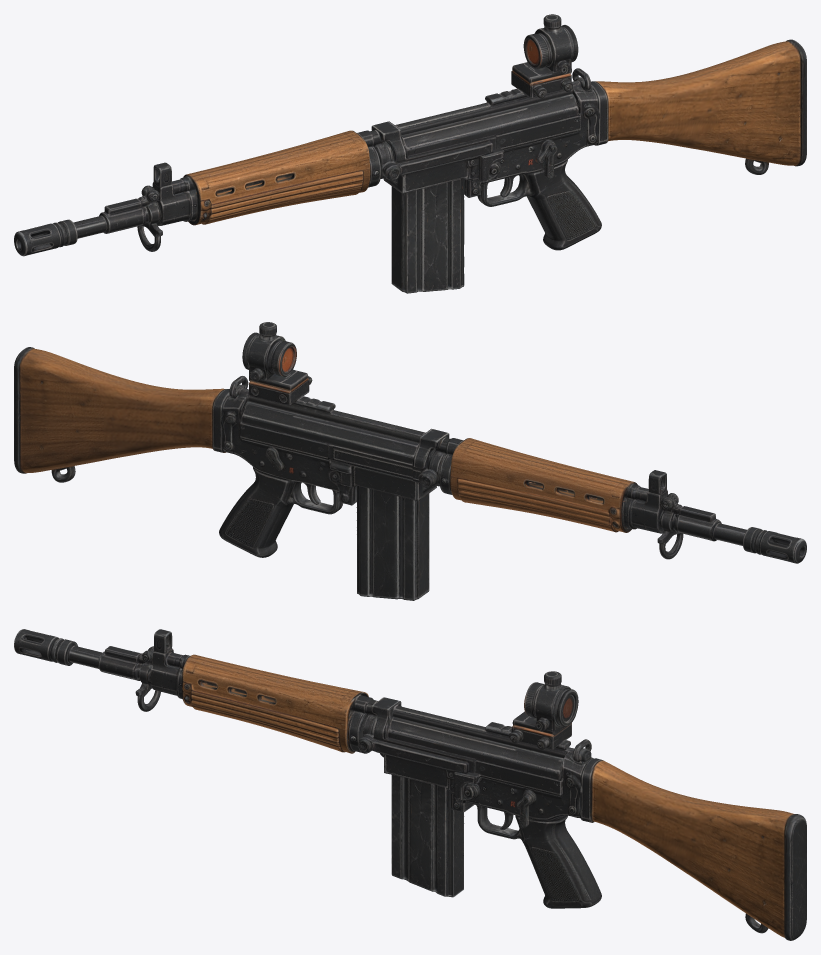
The model's file is fal_meshy_2026-11-15.glb.
The picture shows the model from 3 angles, top to bottom: view 1: azimuth 30°, elevation 25°; view 2: azimuth 150°, elevation 25°; view 3: azimuth 330°, elevation 25°; orthographic projection.
Size of the model in its own units: 1.91 by 0.5652 by 0.1366.
1 material, 1 textured.
